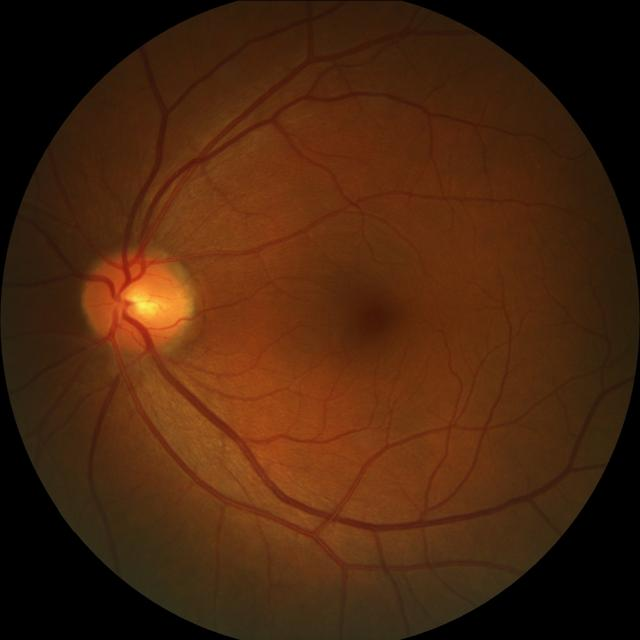OC: (114, 275, 164, 327)
OD: (82, 250, 194, 352)
